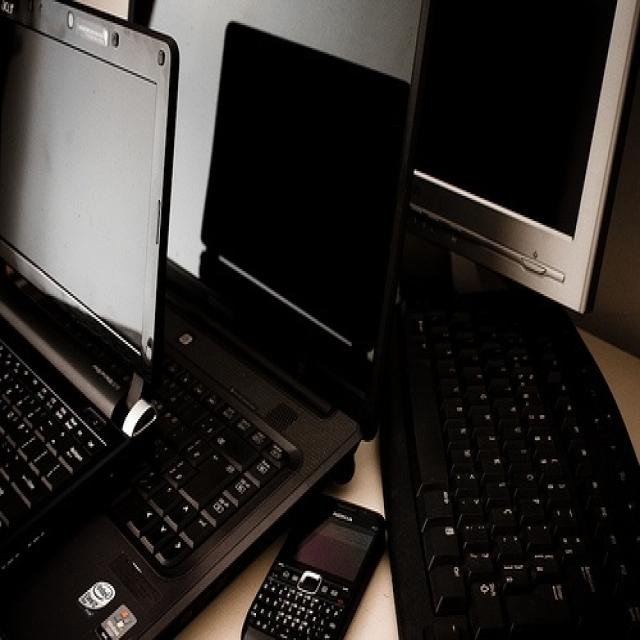E-waste: (10, 14, 628, 627)
